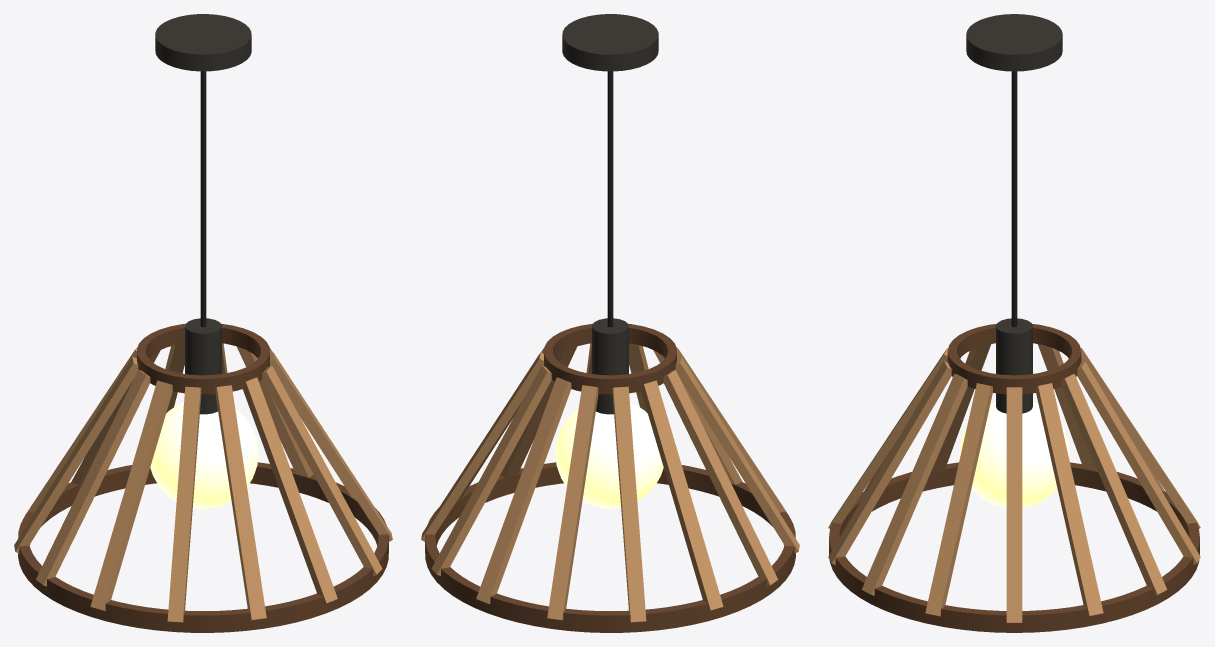
The model's file is light-bedroom-cedar-pendant.gltf.
The picture shows the model from 3 angles, left to right: view 1: azimuth 30°, elevation 25°; view 2: azimuth 150°, elevation 25°; view 3: azimuth 270°, elevation 25°; orthographic projection.
Visible parts, largest first — view 1: Bedroom cedar pendant lower rim, Bedroom cedar pendant warm diffuser, Bedroom cedar pendant ceiling rose, Bedroom cedar pendant shade slat 08, Bedroom cedar pendant shade slat 11, Bedroom cedar pendant shade slat 10, Bedroom cedar pendant top rim, Bedroom cedar pendant shade slat 09, Bedroom cedar pendant shade slat 07, Bedroom cedar pendant shade slat 12, Bedroom cedar pendant shade slat 06, Bedroom cedar pendant shade slat 13 (+6 smaller); view 2: Bedroom cedar pendant lower rim, Bedroom cedar pendant warm diffuser, Bedroom cedar pendant ceiling rose, Bedroom cedar pendant shade slat 06, Bedroom cedar pendant shade slat 03, Bedroom cedar pendant shade slat 04, Bedroom cedar pendant top rim, Bedroom cedar pendant shade slat 05, Bedroom cedar pendant shade slat 07, Bedroom cedar pendant shade slat 02, Bedroom cedar pendant shade slat 08, Bedroom cedar pendant shade slat 01 (+6 smaller); view 3: Bedroom cedar pendant lower rim, Bedroom cedar pendant warm diffuser, Bedroom cedar pendant ceiling rose, Bedroom cedar pendant shade slat 13, Bedroom cedar pendant shade slat 01, Bedroom cedar pendant top rim, Bedroom cedar pendant shade slat 12, Bedroom cedar pendant shade slat 02, Bedroom cedar pendant shade slat 00, Bedroom cedar pendant shade slat 03, Bedroom cedar pendant shade slat 11, Bedroom cedar pendant socket (+5 smaller).
Part boxes in pixels (x1=…): Bedroom cedar pendant lower rim: x1=18, y1=462, x2=388, y2=632; Bedroom cedar pendant warm diffuser: x1=150, y1=402, x2=258, y2=508; Bedroom cedar pendant ceiling rose: x1=155, y1=14, x2=251, y2=71; Bedroom cedar pendant shade slat 08: x1=90, y1=380, x2=172, y2=610; Bedroom cedar pendant shade slat 11: x1=242, y1=377, x2=337, y2=603; Bedroom cedar pendant shade slat 10: x1=215, y1=385, x2=266, y2=620; Bedroom cedar pendant top rim: x1=137, y1=323, x2=269, y2=394; Bedroom cedar pendant shade slat 09: x1=167, y1=386, x2=201, y2=622; Bedroom cedar pendant shade slat 07: x1=35, y1=369, x2=150, y2=586; Bedroom cedar pendant shade slat 12: x1=262, y1=365, x2=382, y2=576; Bedroom cedar pendant shade slat 06: x1=14, y1=356, x2=138, y2=553; Bedroom cedar pendant shade slat 13: x1=270, y1=352, x2=392, y2=541; Bedroom cedar pendant lower rim: x1=425, y1=462, x2=795, y2=632; Bedroom cedar pendant warm diffuser: x1=555, y1=402, x2=663, y2=508; Bedroom cedar pendant ceiling rose: x1=562, y1=14, x2=658, y2=71; Bedroom cedar pendant shade slat 06: x1=641, y1=380, x2=723, y2=610; Bedroom cedar pendant shade slat 03: x1=476, y1=377, x2=571, y2=603; Bedroom cedar pendant shade slat 04: x1=547, y1=385, x2=598, y2=620; Bedroom cedar pendant top rim: x1=544, y1=323, x2=676, y2=394; Bedroom cedar pendant shade slat 05: x1=612, y1=386, x2=646, y2=622; Bedroom cedar pendant shade slat 07: x1=663, y1=369, x2=778, y2=586; Bedroom cedar pendant shade slat 02: x1=431, y1=365, x2=551, y2=576; Bedroom cedar pendant shade slat 08: x1=675, y1=356, x2=799, y2=553; Bedroom cedar pendant shade slat 01: x1=421, y1=352, x2=543, y2=541; Bedroom cedar pendant lower rim: x1=829, y1=462, x2=1199, y2=632; Bedroom cedar pendant warm diffuser: x1=959, y1=402, x2=1069, y2=507; Bedroom cedar pendant ceiling rose: x1=966, y1=14, x2=1062, y2=71; Bedroom cedar pendant shade slat 13: x1=925, y1=383, x2=992, y2=616; Bedroom cedar pendant shade slat 01: x1=1036, y1=383, x2=1103, y2=616; Bedroom cedar pendant top rim: x1=947, y1=324, x2=1081, y2=394; Bedroom cedar pendant shade slat 12: x1=861, y1=373, x2=967, y2=595; Bedroom cedar pendant shade slat 02: x1=1061, y1=373, x2=1167, y2=595; Bedroom cedar pendant shade slat 00: x1=1006, y1=387, x2=1022, y2=622; Bedroom cedar pendant shade slat 03: x1=1077, y1=361, x2=1200, y2=564; Bedroom cedar pendant shade slat 11: x1=828, y1=361, x2=951, y2=564; Bedroom cedar pendant socket: x1=996, y1=318, x2=1032, y2=413.
Size of the model in its own units: 0.5104 by 0.7737 by 0.5022.
